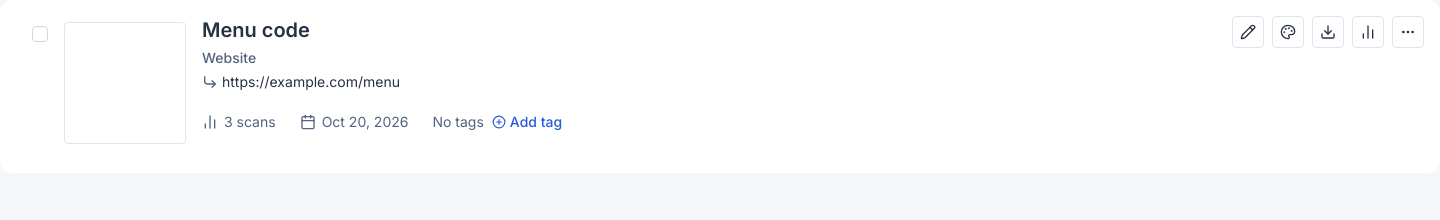
Scenario: QrCard › actions menu lists the QR items
The image size is (1440, 220).
What coordinates should you click on to do the following:
click the button named "More"
I would click on:
 (1408, 32)
Its box is [1392, 16, 1424, 48].
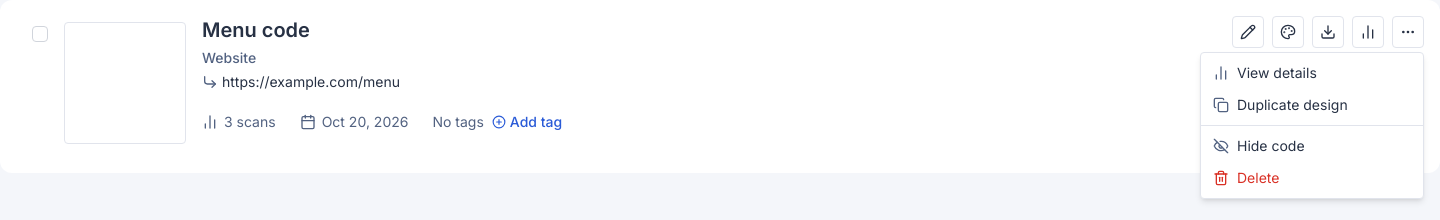
Now the menu items read "View details", "Duplicate design", "Hide code", "Delete", in this order, box [1213, 64, 1317, 81]; [1213, 96, 1348, 113]; [1213, 137, 1305, 154]; [1213, 169, 1279, 186]
